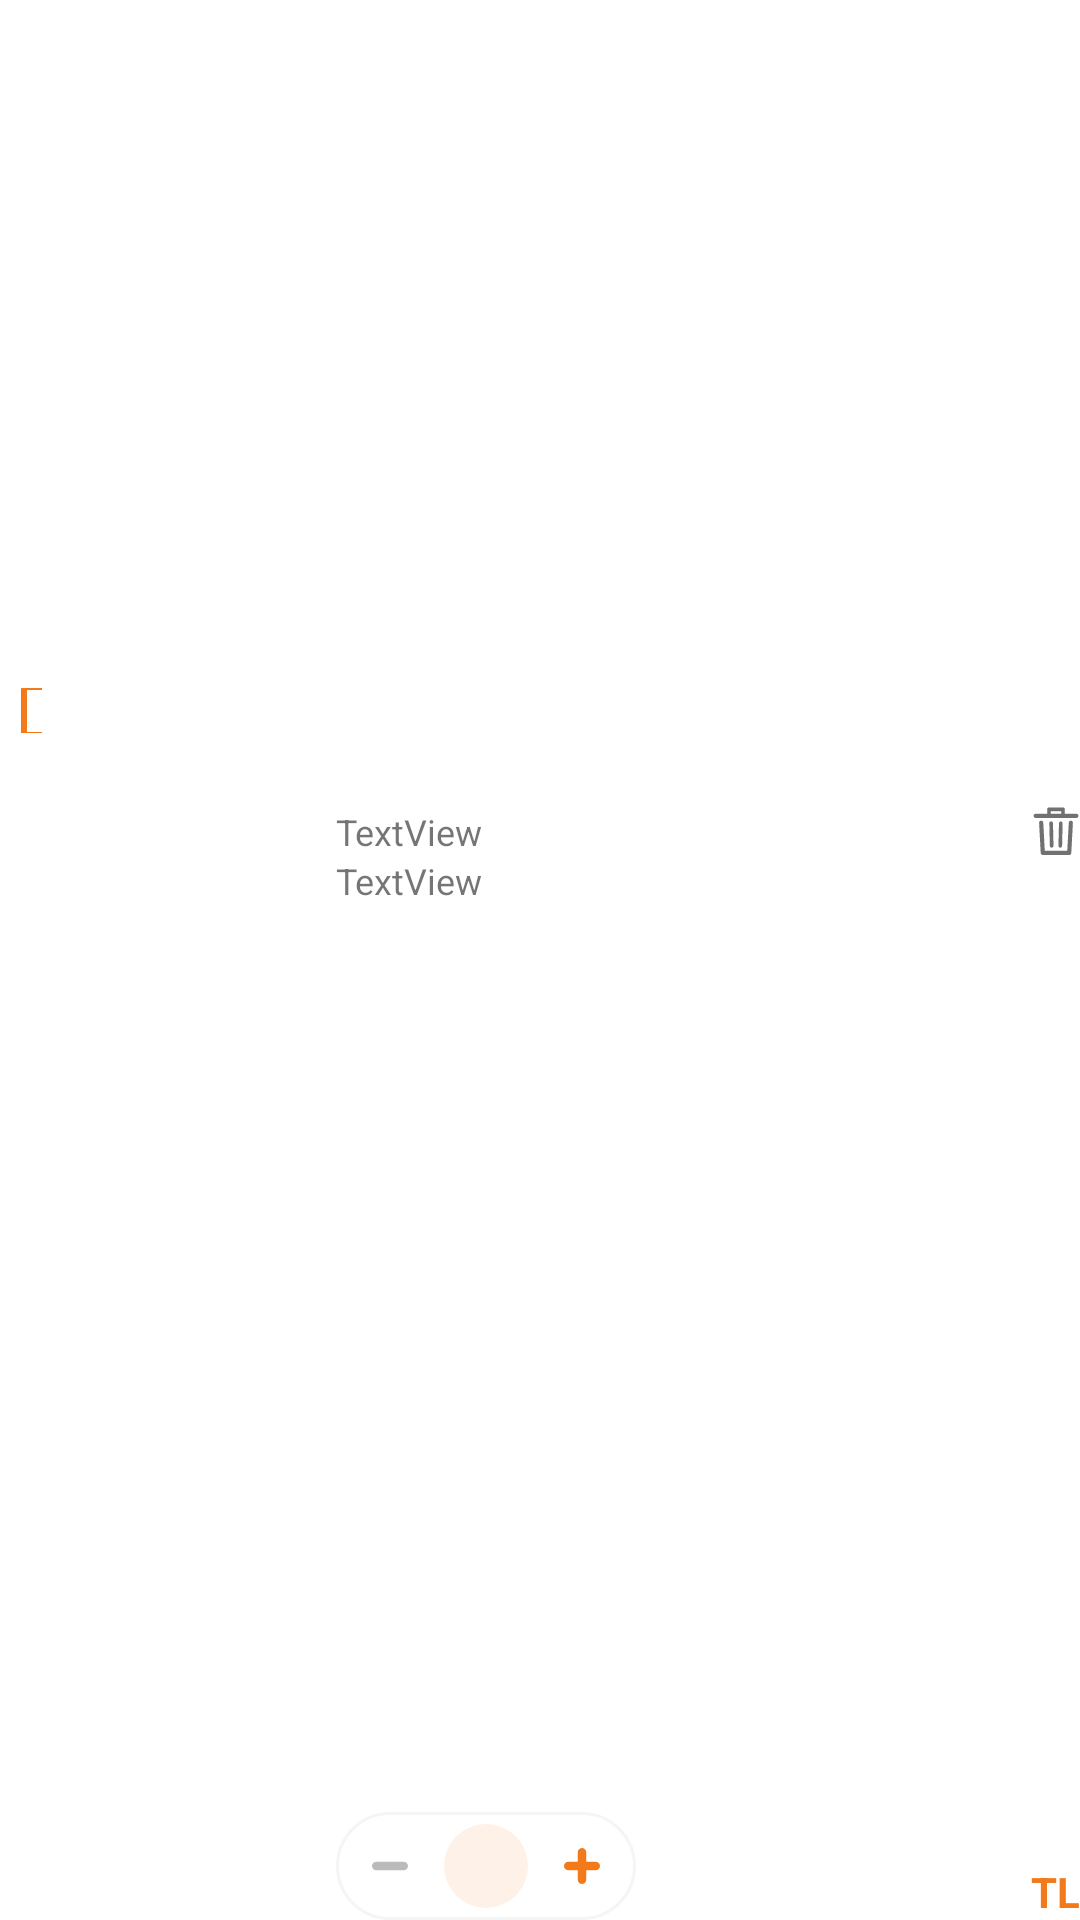

Icons on this 1080×1920 Android screen, each with the point to tap as point (x, y):
increase: point (582, 1866)
trash: point (1056, 831)
